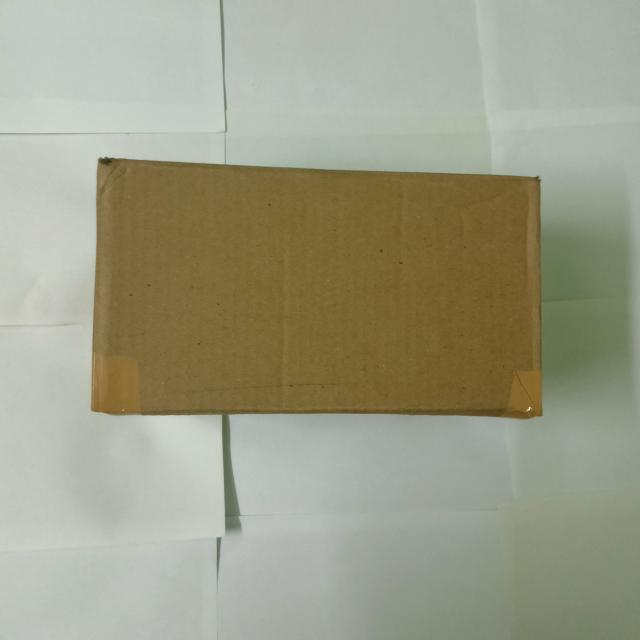box: (91, 159, 545, 423)
